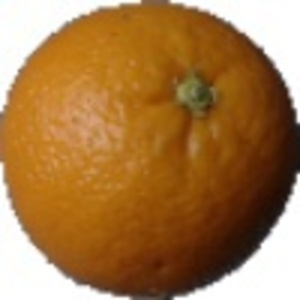laranja: (1, 1, 298, 299)
